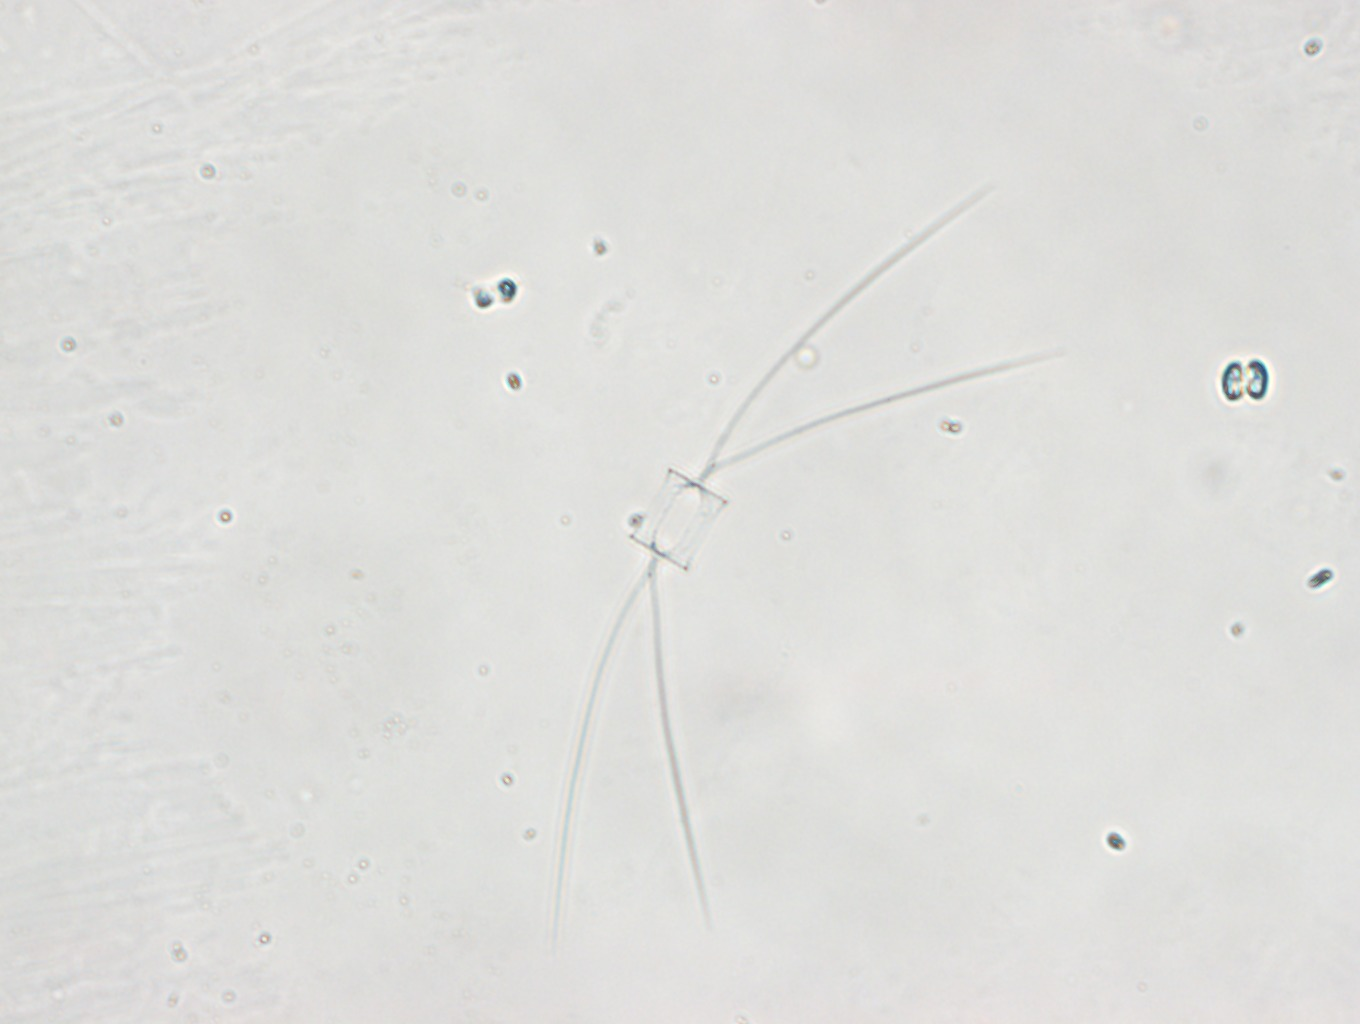chaetoceros: (552, 175, 1035, 955)
